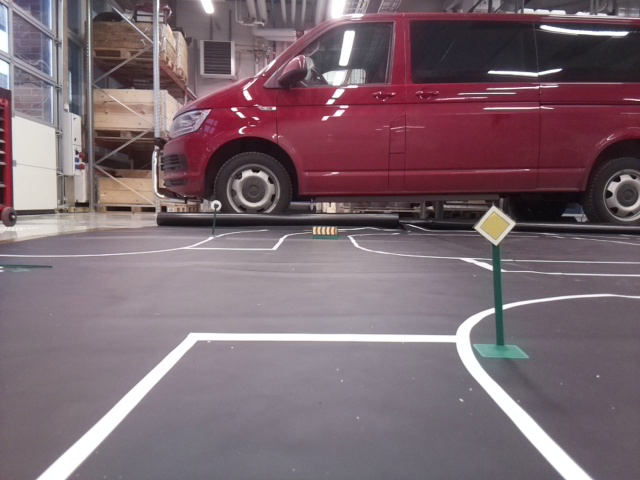Priority: (472, 204, 515, 244)
